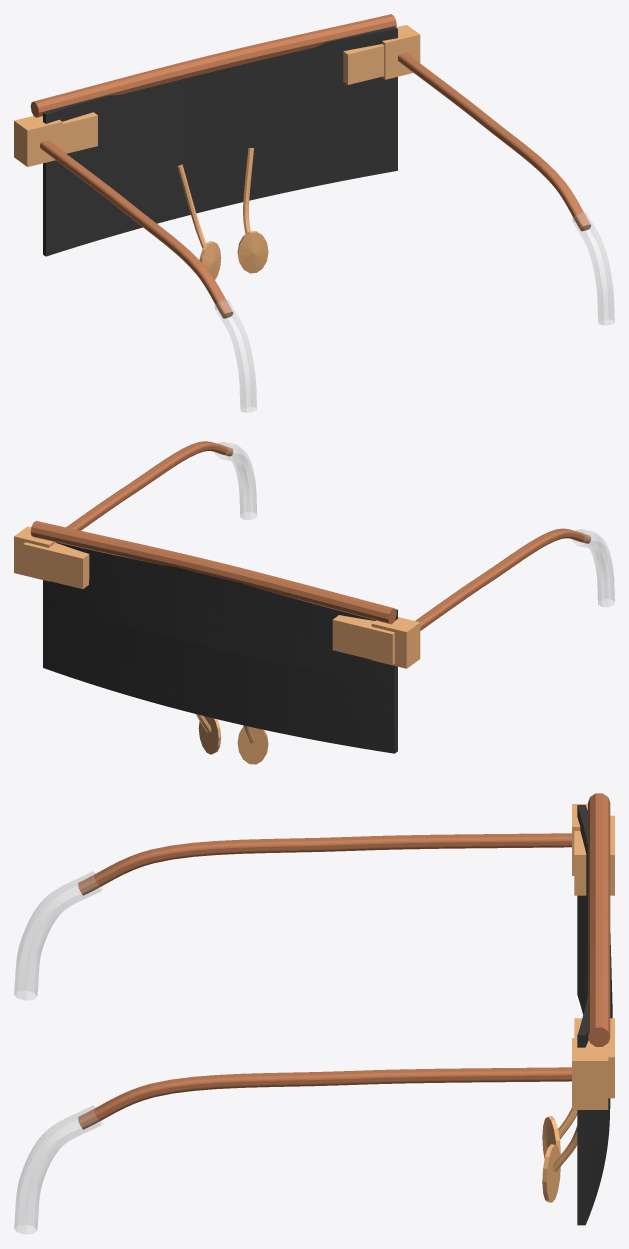
File: Accessories_glasses__0003.glb
The picture shows the model from 3 angles, top to bottom: view 1: azimuth 30°, elevation 25°; view 2: azimuth 150°, elevation 25°; view 3: azimuth 270°, elevation 25°; orthographic projection. The views are drawn at different scales.
Parts seen in each view (by area): view 1: front_frame::shield_lens, front_frame::brow_frame, temple_left::arm_left, temple_right::arm_right, temple_left::ear_tip_left, temple_right::ear_tip_right, temple_left::knuckle_left, front_frame::hinge_block_right, temple_right::knuckle_right, front_frame::hinge_block_left, front_frame::nose_pad_right, front_frame::nose_pad_left (+1 smaller); view 2: front_frame::shield_lens, front_frame::brow_frame, front_frame::hinge_block_right, temple_left::arm_left, front_frame::hinge_block_left, temple_right::arm_right, temple_right::ear_tip_right, temple_left::ear_tip_left, temple_left::knuckle_left, front_frame::nose_pad_left, temple_right::knuckle_right, front_frame::nose_pad_right; view 3: temple_right::arm_right, temple_left::arm_left, front_frame::brow_frame, front_frame::shield_lens, temple_left::ear_tip_left, temple_right::ear_tip_right, temple_right::knuckle_right, front_frame::hinge_block_left, front_frame::nose_pad_right, front_frame::hinge_block_right.
Part boxes in pixels (x1,y1,x2,y2): front_frame::shield_lens: (43, 26, 397, 256); front_frame::brow_frame: (30, 14, 396, 117); temple_left::arm_left: (40, 140, 233, 318); temple_right::arm_right: (398, 53, 591, 231); temple_left::ear_tip_left: (214, 299, 256, 412); temple_right::ear_tip_right: (572, 212, 614, 325); temple_left::knuckle_left: (14, 116, 62, 166); front_frame::hinge_block_right: (343, 44, 384, 84); temple_right::knuckle_right: (382, 25, 420, 79); front_frame::hinge_block_left: (62, 112, 97, 153); front_frame::nose_pad_right: (237, 231, 268, 273); front_frame::nose_pad_left: (199, 241, 221, 279); front_frame::shield_lens: (43, 542, 397, 753); front_frame::brow_frame: (30, 521, 396, 624); front_frame::hinge_block_right: (23, 542, 89, 588); temple_left::arm_left: (415, 528, 591, 630); front_frame::hinge_block_left: (332, 615, 394, 664); temple_right::arm_right: (66, 441, 233, 530); temple_right::ear_tip_right: (215, 442, 256, 519); temple_left::ear_tip_left: (573, 529, 614, 606); temple_left::knuckle_left: (371, 617, 420, 668); front_frame::nose_pad_left: (237, 726, 268, 764); temple_right::knuckle_right: (14, 526, 55, 581); front_frame::nose_pad_right: (198, 716, 221, 754); temple_right::arm_right: (78, 1067, 571, 1129); temple_left::arm_left: (78, 833, 571, 895); front_frame::brow_frame: (588, 793, 610, 1046); front_frame::shield_lens: (577, 805, 612, 1225); temple_left::ear_tip_left: (14, 871, 102, 1000); temple_right::ear_tip_right: (14, 1105, 102, 1234); temple_right::knuckle_right: (572, 1038, 608, 1109); front_frame::hinge_block_left: (574, 815, 614, 895); front_frame::nose_pad_right: (542, 1144, 560, 1202); front_frame::hinge_block_right: (574, 1018, 614, 1098).
Bounding box in the file's own units: 0.1346 × 0.0684 × 0.133.
Materials: 4 (1 with a texture image).
